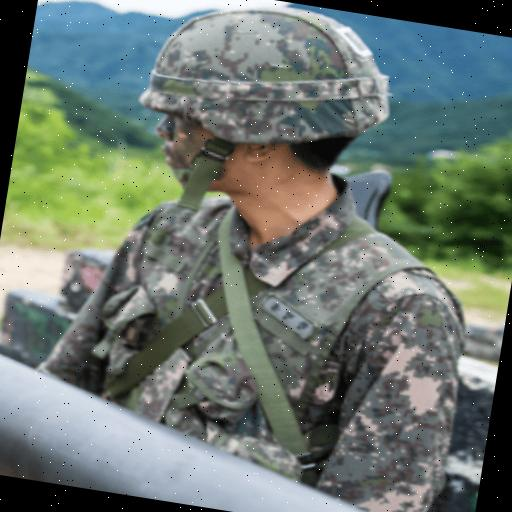korea army: (26, 140, 482, 512), (136, 0, 395, 167), (313, 278, 472, 512)
